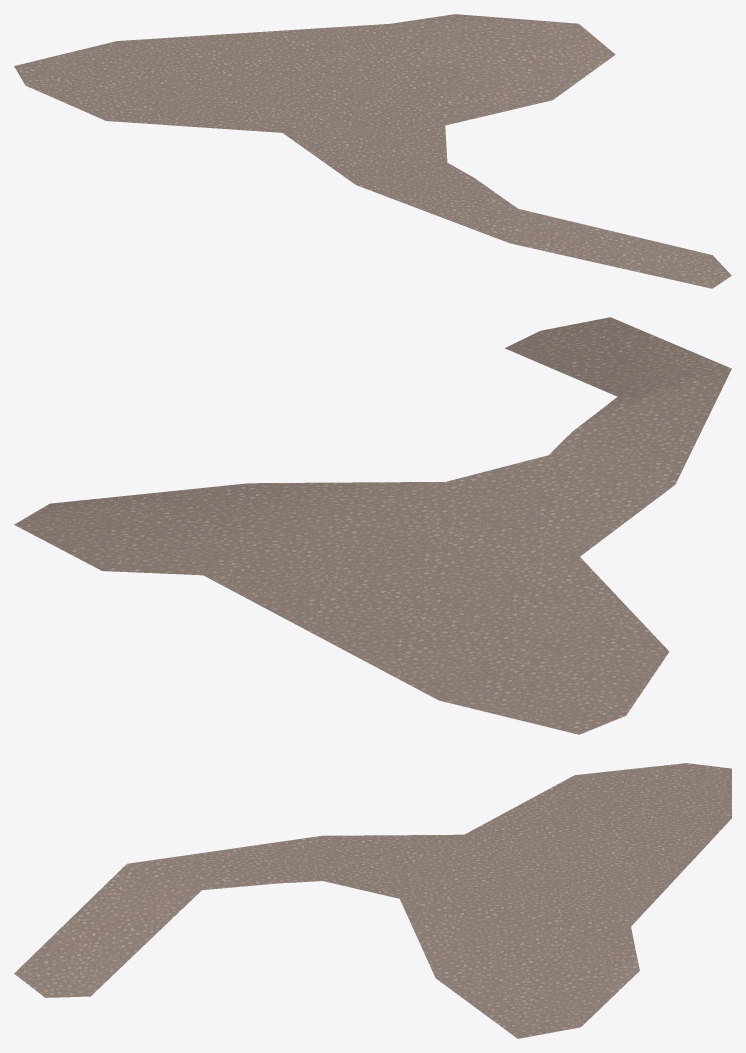
The model's file is kd_stage_1364a3_4_2_bounded.glb.
The picture shows the model from 3 angles, top to bottom: view 1: azimuth 30°, elevation 25°; view 2: azimuth 150°, elevation 25°; view 3: azimuth 270°, elevation 25°; orthographic projection. The views are drawn at different scales.
Visible parts, largest first — view 1: kd_stage_1364a3_4_2_bounded; view 2: kd_stage_1364a3_4_2_bounded; view 3: kd_stage_1364a3_4_2_bounded.
Boxes of the visible parts, box(x1,y1,x2,y2) form: kd_stage_1364a3_4_2_bounded: box(14, 14, 731, 288); kd_stage_1364a3_4_2_bounded: box(14, 317, 731, 734); kd_stage_1364a3_4_2_bounded: box(14, 763, 731, 1038).
Size of the model in its own units: 30.65 by 2.79 by 37.86.
Materials: 1 (1 with a texture image).
